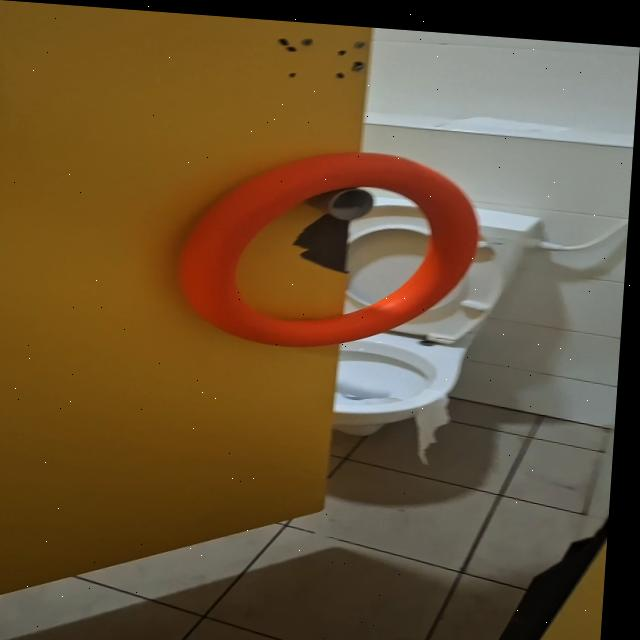note: (176, 134, 488, 354)
